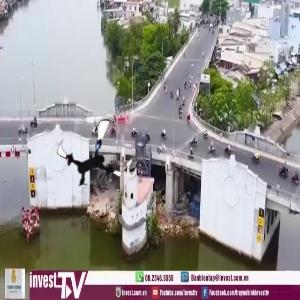drone: (56, 117, 133, 194)
